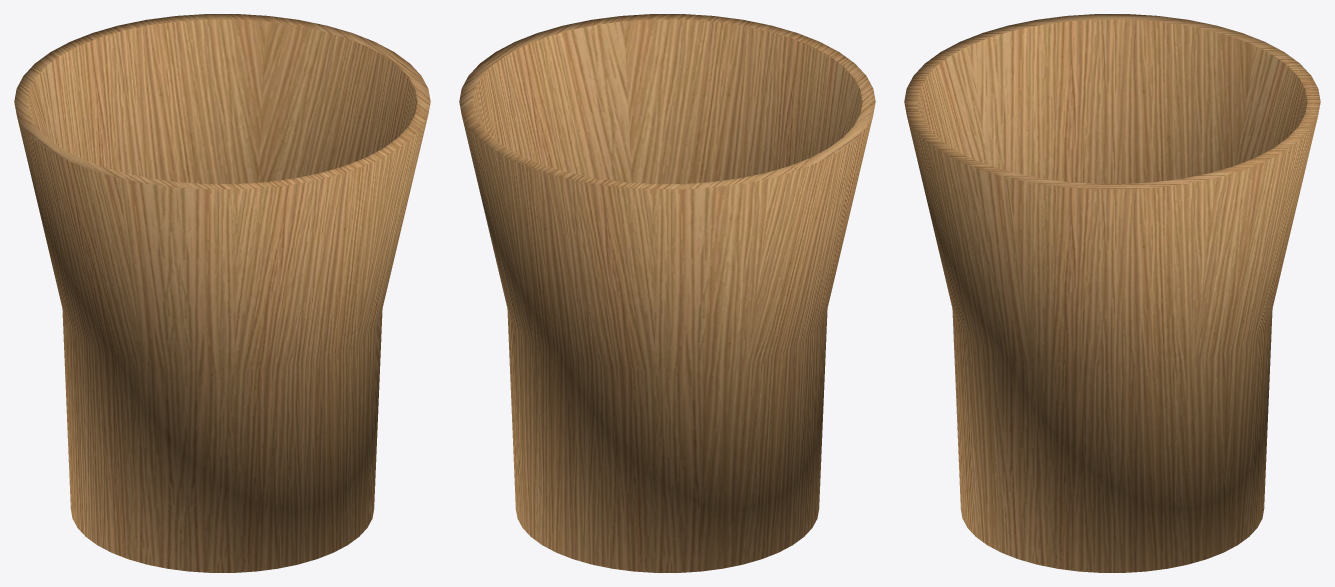
The model's file is vaso.fbx.
The picture shows the model from 3 angles, left to right: view 1: azimuth 30°, elevation 25°; view 2: azimuth 150°, elevation 25°; view 3: azimuth 270°, elevation 25°; orthographic projection.
Visible parts, largest first — view 1: Cylinder; view 2: Cylinder; view 3: Cylinder.
Boxes of the visible parts, bbox=[...] form: Cylinder: bbox=[14, 14, 430, 572]; Cylinder: bbox=[459, 14, 875, 572]; Cylinder: bbox=[904, 14, 1320, 572].
Bounding box in the file's own units: 185 × 200 × 185.
Materials: 1 (1 with a texture image).
